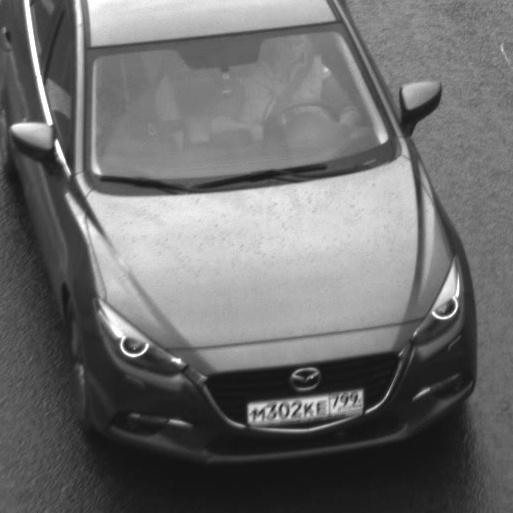plate: (238, 377, 373, 431)
